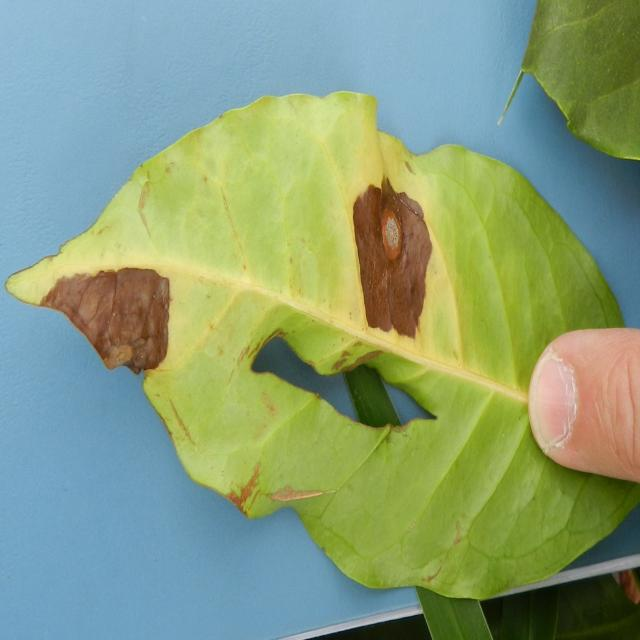Enfermedad-Mancha-de-hierro: (6, 91, 640, 602)
